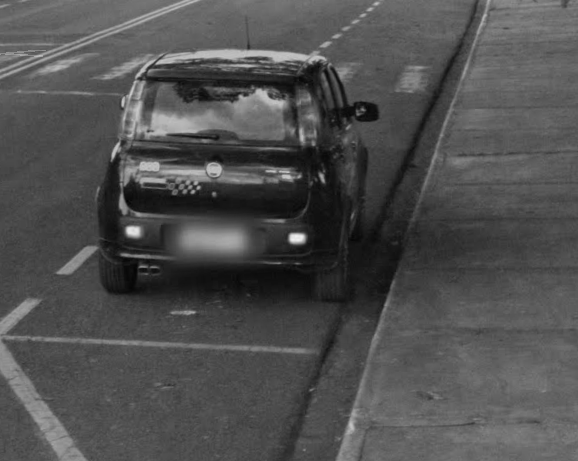car: (96, 42, 383, 318)
